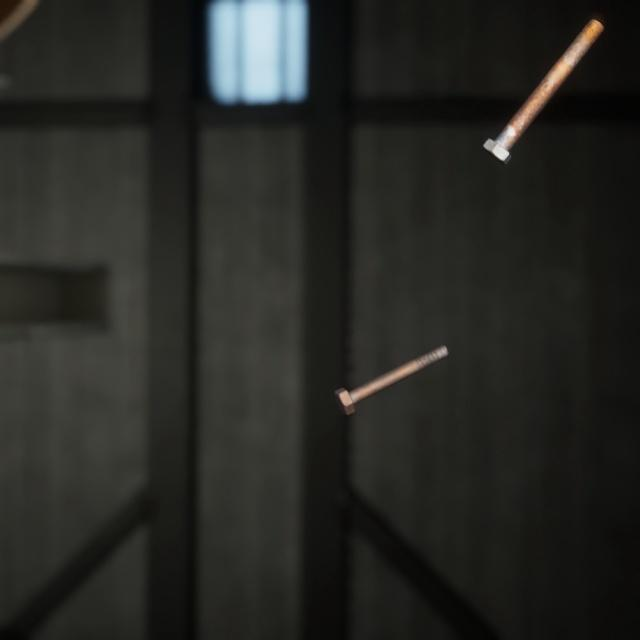bolt: (478, 3, 608, 157), (329, 322, 453, 401)
